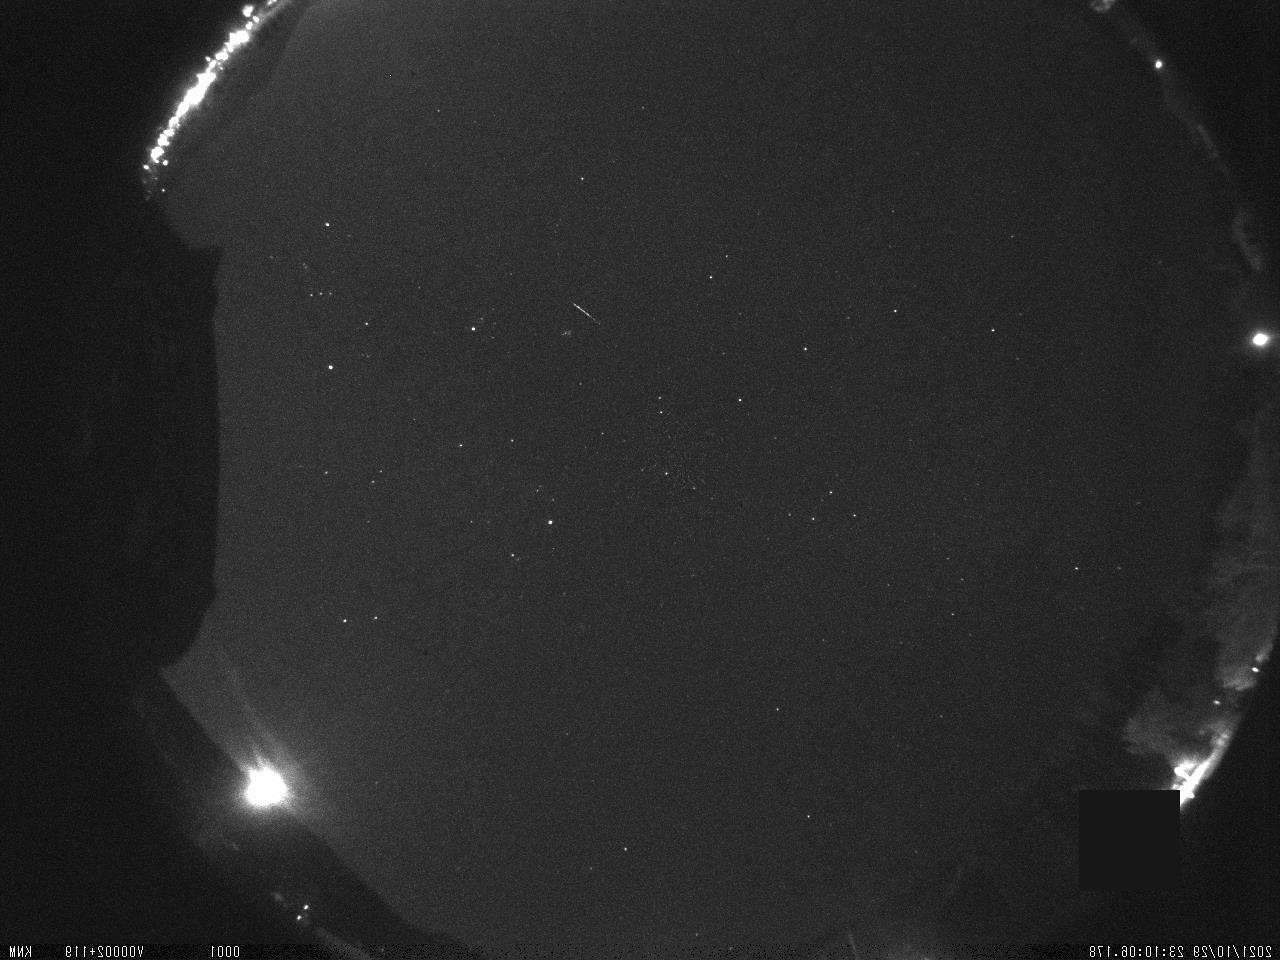meteor: (559, 292, 616, 329)
